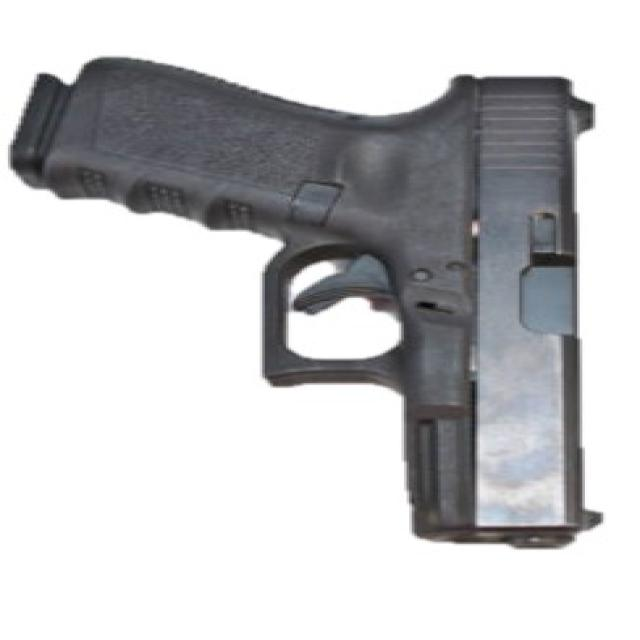pistol: (4, 48, 626, 565)
